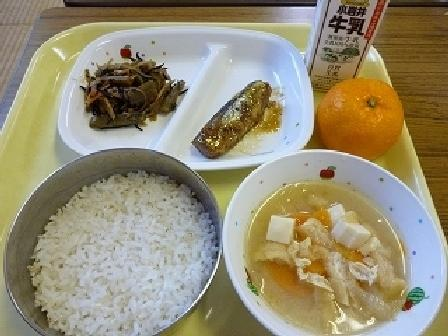Citrus: (315, 74, 405, 159)
Fish: (190, 65, 288, 157)
Milk: (298, 0, 394, 90)
Rice: (8, 160, 216, 335)
Soups: (236, 155, 432, 334)
salad with sauce: (74, 48, 175, 139)
